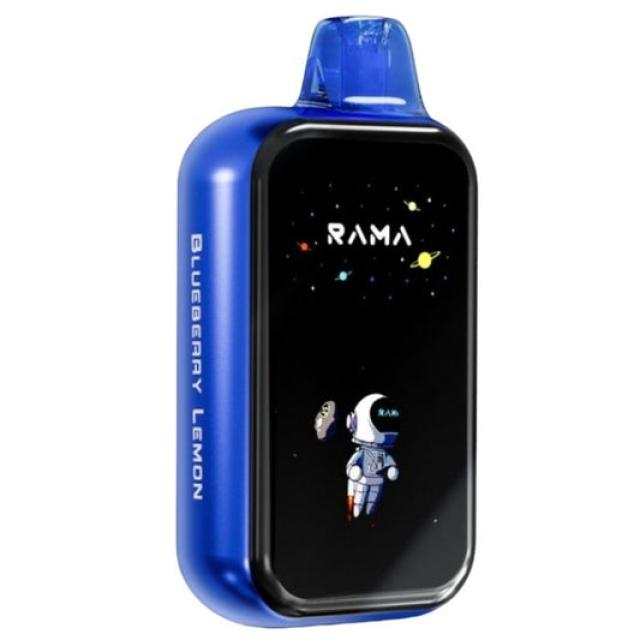Vapes: (174, 13, 479, 628)
